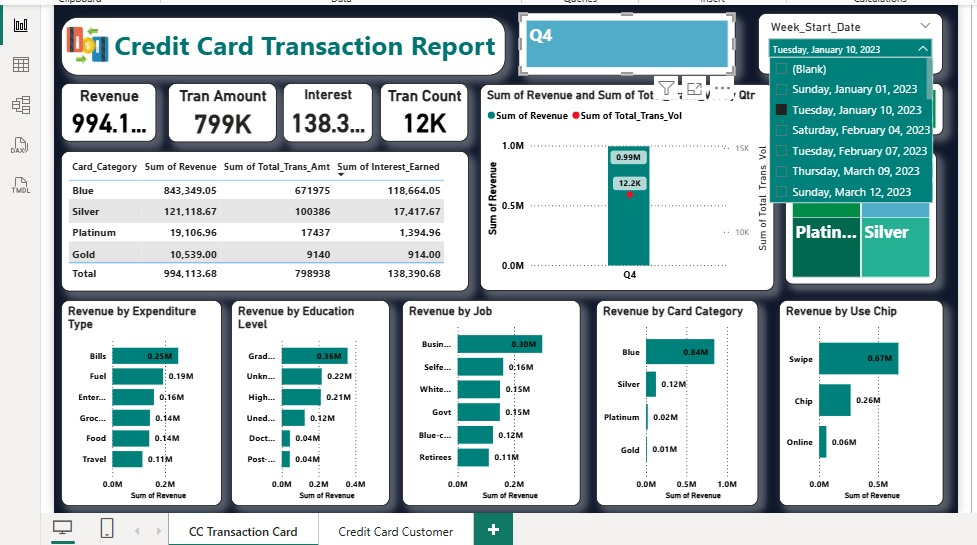

The page's visual inventory and layout, read from the dashboard file:
{"tool":"powerbi","page":{"name":"CC Transaction Card","canvas":[1280,720],"ordinal":0},"visuals":[{"type":"textbox","box":[10.1,16.8,629.9,82.5],"z":0},{"type":"card","title":"Revenue","fields":{"Values":["Sum(credit_card.Revenue)"]},"box":[10.2,110.5,135.3,82.9],"z":1000},{"type":"card","title":"Interest","fields":{"Values":["Sum(credit_card.Interest_Earned)"]},"box":[324.4,110.5,126.5,84.4],"z":2000},{"type":"card","title":"Tran Amount","fields":{"Values":["Sum(credit_card.Total_Trans_Amt)"]},"box":[161.5,110.5,154.2,84.4],"z":3000},{"type":"card","title":"Tran Count","fields":{"Values":["Sum(credit_card.Total_Trans_Vol)"]},"box":[462.5,110.5,125.1,82.9],"z":4000},{"type":"tableEx","fields":{"Values":["credit_card.Card_Category","Sum(credit_card.Revenue)","Sum(credit_card.Total_Trans_Amt)","Sum(credit_card.Interest_Earned)"]},"box":[10.1,207.2,577.7,198.7],"z":5000},{"type":"lineClusteredColumnComboChart","fields":{"Category":["credit_card.Qtr"],"Y":["Sum(credit_card.Revenue)"],"Y2":["Sum(credit_card.Total_Trans_Vol)"]},"box":[603.6,112,417.5,293.8],"z":6000},{"type":"slicer","fields":{"Values":["credit_card.Week_Start_Date"]},"box":[997.8,11.6,261.8,87.3],"z":7000},{"type":"treemap","fields":{"Group":["credit_card.Card_Category"],"Values":["Avg(credit_card.Client_Num)"]},"box":[1035.6,206.5,215.3,189.1],"z":8000},{"type":"treemap","fields":{"Group":["credit_card.Qtr"],"Values":["Avg(credit_card.Client_Num)"]},"box":[658.5,11.8,306.5,87.6],"z":9000},{"type":"treemap","fields":{"Group":["customer.Gender"],"Values":["Avg(credit_card.Client_Num)"]},"box":[1026.9,110.5,232.7,74.2],"z":10000},{"type":"barChart","title":" Revenue by Expenditure Type","fields":{"Category":["credit_card.Exp Type"],"Y":["Sum(credit_card.Revenue)"]},"box":[10.2,417.5,228.4,292.4],"z":11000},{"type":"barChart","title":"Revenue by Education Level","fields":{"Y":["Sum(credit_card.Revenue)"],"Category":["customer.Education_Level"]},"box":[250.2,417.5,225.5,292.4],"z":12000},{"type":"barChart","title":"Revenue by Job","fields":{"Y":["Sum(credit_card.Revenue)"],"Category":["customer.Customer_Job"]},"box":[493.1,417.5,253.1,292.4],"z":13000},{"type":"barChart","title":"Revenue by Card Category","fields":{"Y":["Sum(credit_card.Revenue)"],"Category":["credit_card.Card_Category"]},"box":[768,417.5,229.8,292.4],"z":14000},{"type":"barChart","title":"Revenue by Use Chip","fields":{"Y":["Sum(credit_card.Revenue)"],"Category":["credit_card.Use Chip"]},"box":[1026.9,417.5,232.7,292.4],"z":15000},{"type":"image","box":[17,15.6,60.9,83.6],"z":16000}]}

Visuals, with their boxes on the page's 1280x720 design canvas (x1, y1, x2, y2). These are canvas units, not pixel positions in the 977x545 screenshot, which may show the page scaled, cropped or inside an application window:
textbox: [x1=10, y1=17, x2=640, y2=99]
"Revenue" card: [x1=10, y1=110, x2=146, y2=193]
"Interest" card: [x1=324, y1=110, x2=451, y2=195]
"Tran Amount" card: [x1=162, y1=110, x2=316, y2=195]
"Tran Count" card: [x1=462, y1=110, x2=588, y2=193]
tableEx - credit_card.Card_Category x Sum(credit_card.Revenue): [x1=10, y1=207, x2=588, y2=406]
lineClusteredColumnComboChart - credit_card.Qtr x Sum(credit_card.Revenue): [x1=604, y1=112, x2=1021, y2=406]
slicer - credit_card.Week_Start_Date: [x1=998, y1=12, x2=1260, y2=99]
treemap - credit_card.Card_Category x Avg(credit_card.Client_Num): [x1=1036, y1=206, x2=1251, y2=396]
treemap - credit_card.Qtr x Avg(credit_card.Client_Num): [x1=658, y1=12, x2=965, y2=99]
treemap - customer.Gender x Avg(credit_card.Client_Num): [x1=1027, y1=110, x2=1260, y2=185]
" Revenue by Expenditure Type" barChart: [x1=10, y1=418, x2=239, y2=710]
"Revenue by Education Level" barChart: [x1=250, y1=418, x2=476, y2=710]
"Revenue by Job" barChart: [x1=493, y1=418, x2=746, y2=710]
"Revenue by Card Category" barChart: [x1=768, y1=418, x2=998, y2=710]
"Revenue by Use Chip" barChart: [x1=1027, y1=418, x2=1260, y2=710]
image: [x1=17, y1=16, x2=78, y2=99]
